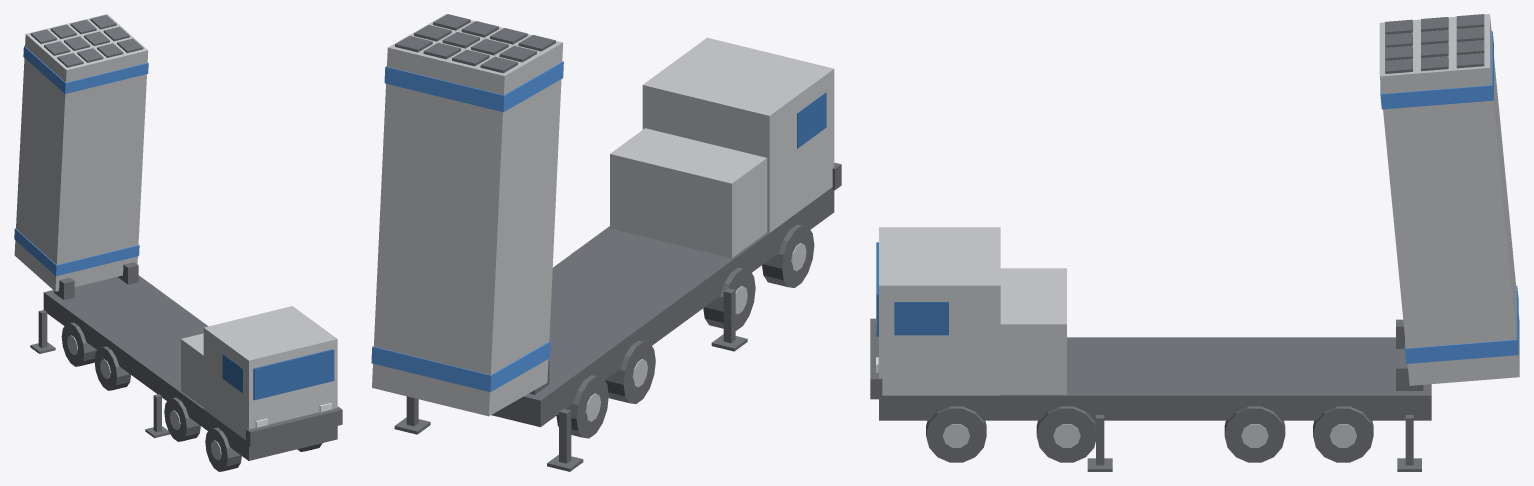
Rendered from Launcher_MidRange_01.fbx.
3 renders of one model, left to right at view 1: azimuth 30°, elevation 25°; view 2: azimuth 150°, elevation 25°; view 3: azimuth 270°, elevation 25°, orthographic. The views are drawn at different scales.
Parts seen in each view (by area): view 1: Launcher_MidRange_01_Rack_Structure, Launcher_MidRange_01_Trim, Launcher_MidRange_01_Structure, Launcher_MidRange_01_Windows, Launcher_MidRange_01_Rack_Accent, Launcher_MidRange_01_Rack_Trim; view 2: Launcher_MidRange_01_Rack_Structure, Launcher_MidRange_01_Structure, Launcher_MidRange_01_Trim, Launcher_MidRange_01_Rack_Accent, Launcher_MidRange_01_Rack_Trim, Launcher_MidRange_01_Windows; view 3: Launcher_MidRange_01_Trim, Launcher_MidRange_01_Rack_Structure, Launcher_MidRange_01_Structure, Launcher_MidRange_01_Rack_Trim, Launcher_MidRange_01_Rack_Accent, Launcher_MidRange_01_Windows.
Part boxes in pixels (left/top/right/bottom): Launcher_MidRange_01_Rack_Structure: left=14, top=14, right=148, bottom=291; Launcher_MidRange_01_Trim: left=30, top=262, right=342, bottom=471; Launcher_MidRange_01_Structure: left=67, top=306, right=337, bottom=460; Launcher_MidRange_01_Windows: left=222, top=349, right=334, bottom=400; Launcher_MidRange_01_Rack_Accent: left=14, top=46, right=148, bottom=276; Launcher_MidRange_01_Rack_Trim: left=30, top=15, right=143, bottom=67; Launcher_MidRange_01_Rack_Structure: left=372, top=14, right=563, bottom=416; Launcher_MidRange_01_Structure: left=585, top=37, right=834, bottom=421; Launcher_MidRange_01_Trim: left=394, top=162, right=841, bottom=471; Launcher_MidRange_01_Rack_Accent: left=371, top=61, right=563, bottom=392; Launcher_MidRange_01_Rack_Trim: left=395, top=14, right=555, bottom=73; Launcher_MidRange_01_Windows: left=797, top=92, right=826, bottom=148; Launcher_MidRange_01_Trim: left=870, top=318, right=1431, bottom=471; Launcher_MidRange_01_Rack_Structure: left=1379, top=14, right=1519, bottom=385; Launcher_MidRange_01_Structure: left=879, top=227, right=1356, bottom=447; Launcher_MidRange_01_Rack_Trim: left=1385, top=14, right=1484, bottom=73; Launcher_MidRange_01_Rack_Accent: left=1380, top=31, right=1518, bottom=363; Launcher_MidRange_01_Windows: left=876, top=242, right=948, bottom=336.
Size of the model in its own units: 3.45 by 7.84 by 11.75.
